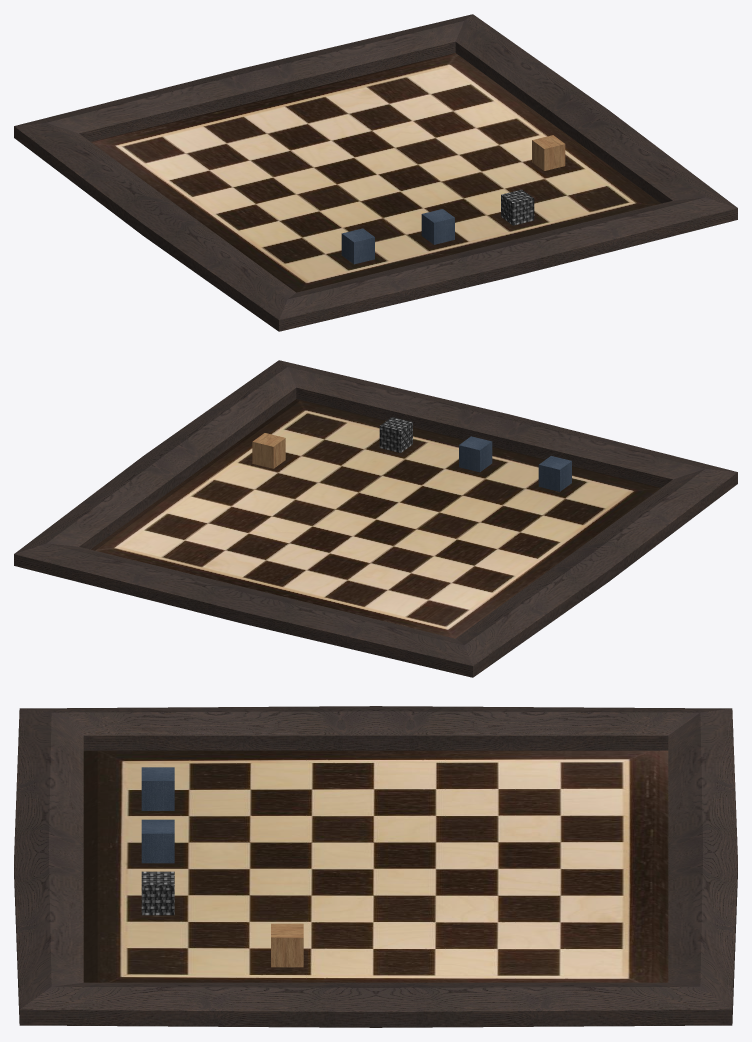
3 views of the same model, one above another, from view 1: azimuth 30°, elevation 25°; view 2: azimuth 150°, elevation 25°; view 3: azimuth 270°, elevation 25° (orthographic). The views are drawn at different scales.
Parts seen in each view (by area): view 1: Board, Border, Box003, Box002, Box004, Box012; view 2: Board, Border, Box004, Box012, Box003, Box002; view 3: Board, Border, Box002, Box004, Box003, Box012.
Part boxes in pixels (x1,y1,x2,y2): Board: (91, 53, 660, 292); Border: (14, 14, 737, 331); Box003: (341, 228, 374, 264); Box002: (501, 189, 534, 225); Box004: (421, 209, 454, 244); Box012: (532, 135, 565, 170); Board: (91, 399, 660, 638); Border: (14, 360, 737, 677); Box004: (459, 436, 492, 472); Box012: (252, 433, 285, 468); Box003: (538, 456, 571, 491); Box002: (379, 417, 412, 452); Board: (83, 750, 668, 982); Border: (14, 706, 737, 1027); Box002: (141, 871, 174, 915); Box004: (141, 819, 174, 863); Box003: (141, 767, 174, 810); Box012: (271, 923, 303, 967).
Size of the model in its own units: 1040 by 107 by 1040.
